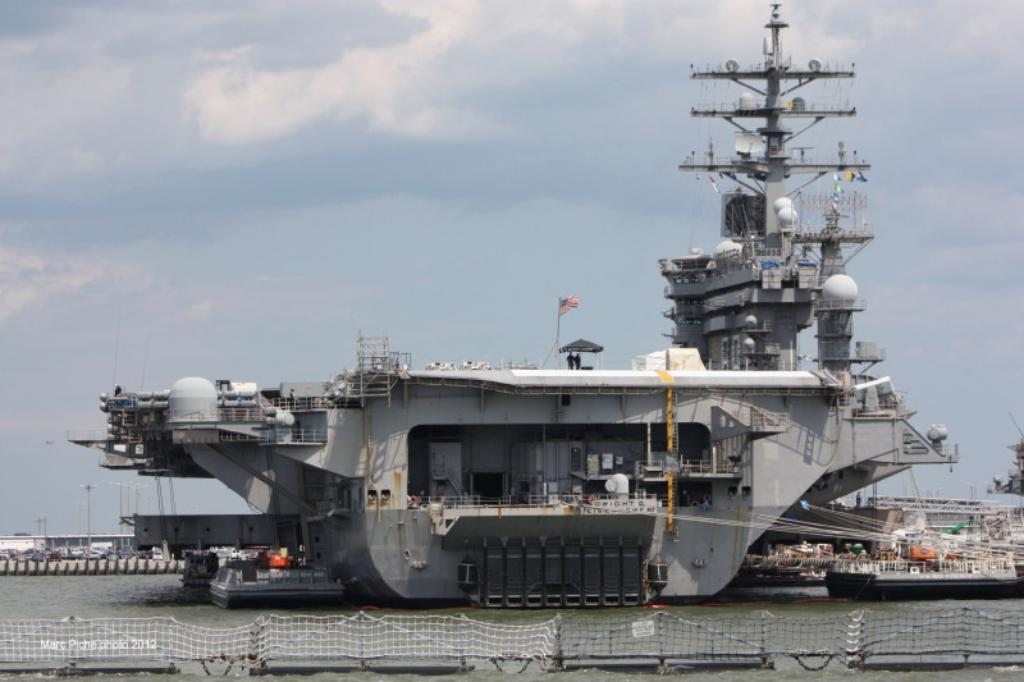Warship: (66, 1, 966, 612)
